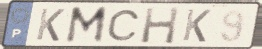9: (219, 8, 249, 44)
C: (106, 8, 142, 42)
H: (139, 6, 181, 46)
K: (180, 8, 213, 44), (33, 7, 66, 43)
M: (63, 5, 110, 45)
